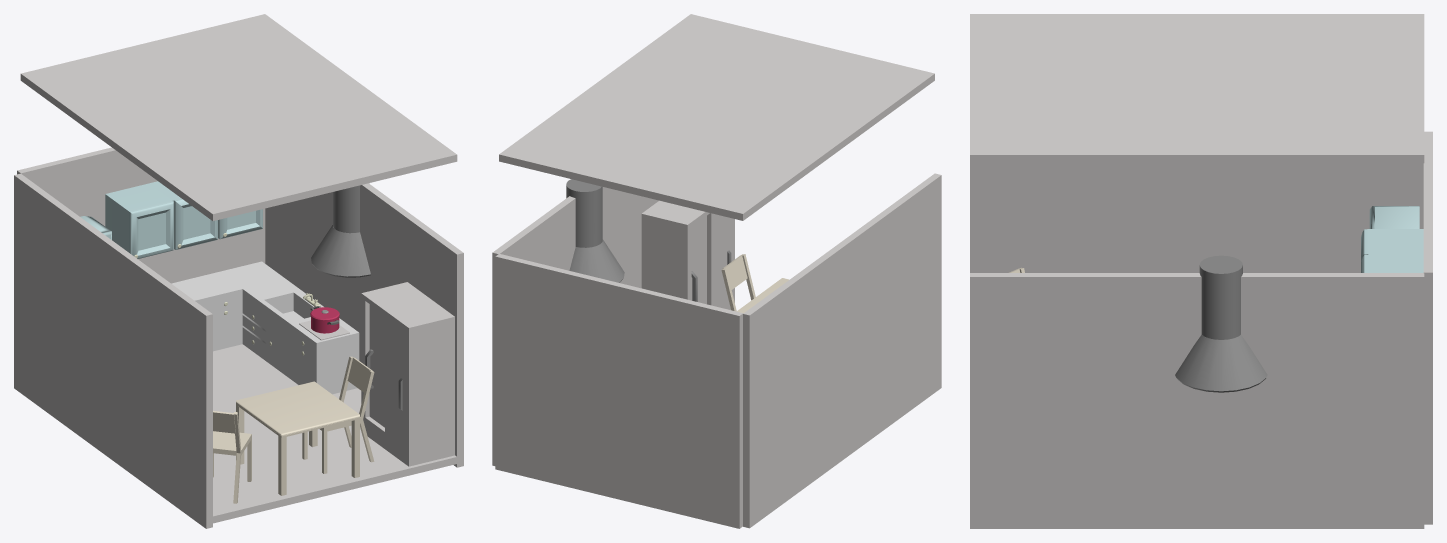
Rendered from yuka.fbx.
The picture shows the model from 3 angles, left to right: view 1: azimuth 30°, elevation 25°; view 2: azimuth 150°, elevation 25°; view 3: azimuth 270°, elevation 25°; orthographic projection. The views are drawn at different scales.
Parts seen in each view (by area): view 1: pCube34, pCube4, pCube3, polySurface50, pCube1, polySurface30, pCube7, polySurface43, pCube17, pCylinder13, polySurface53, polySurface39; view 2: pCube7, pCube34, pCube4, polySurface50, pCube3, pCylinder13, polySurface53; view 3: pCube3, pCube34, pCube4, pCylinder13, pCube7, polySurface43, pCube9.
Part boxes in pixels (x1,y1,x2,y2): pCube34: [20, 14, 457, 220]; pCube4: [14, 173, 212, 528]; pCube3: [265, 183, 463, 467]; polySurface50: [361, 282, 454, 466]; pCube1: [213, 344, 456, 523]; polySurface30: [171, 261, 359, 394]; pCube7: [17, 147, 265, 283]; polySurface43: [105, 181, 262, 258]; pCube17: [236, 381, 360, 495]; pCylinder13: [311, 183, 370, 277]; polySurface53: [302, 356, 374, 473]; polySurface39: [213, 410, 251, 503]; pCube7: [495, 253, 743, 528]; pCube34: [499, 14, 934, 220]; pCube4: [743, 173, 941, 528]; polySurface50: [641, 200, 734, 309]; pCube3: [492, 187, 658, 465]; pCylinder13: [566, 179, 624, 282]; polySurface53: [721, 254, 755, 311]; pCube3: [970, 273, 1424, 528]; pCube34: [970, 14, 1424, 163]; pCube4: [970, 163, 1423, 272]; pCylinder13: [1175, 255, 1267, 392]; pCube7: [1423, 131, 1432, 524]; polySurface43: [1361, 229, 1423, 272]; pCube9: [1369, 206, 1419, 228].
Bounding box in the file's own units: 2108 × 2204 × 2497.
